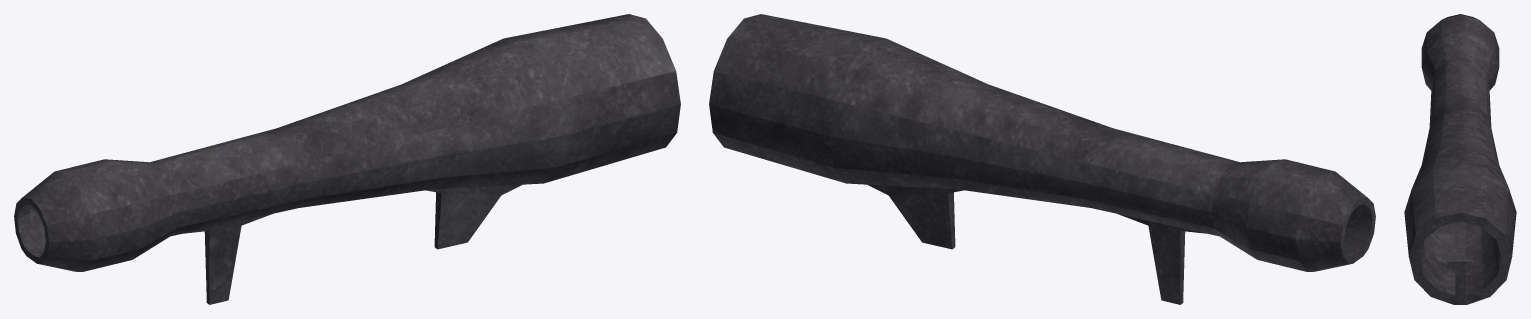
File: Distance_Aim.fbx
The picture shows the model from 3 angles, left to right: view 1: azimuth 30°, elevation 25°; view 2: azimuth 150°, elevation 25°; view 3: azimuth 270°, elevation 25°; orthographic projection. The views are drawn at different scales.
Parts seen in each view (by area): view 1: DistanceScope; view 2: DistanceScope; view 3: DistanceScope.
Part boxes in pixels (bbox=[...]): DistanceScope: bbox=[14, 14, 680, 304]; DistanceScope: bbox=[709, 14, 1375, 304]; DistanceScope: bbox=[1404, 14, 1516, 304].
Bounding box in the file's own units: 49.91 × 14.24 × 10.67.
